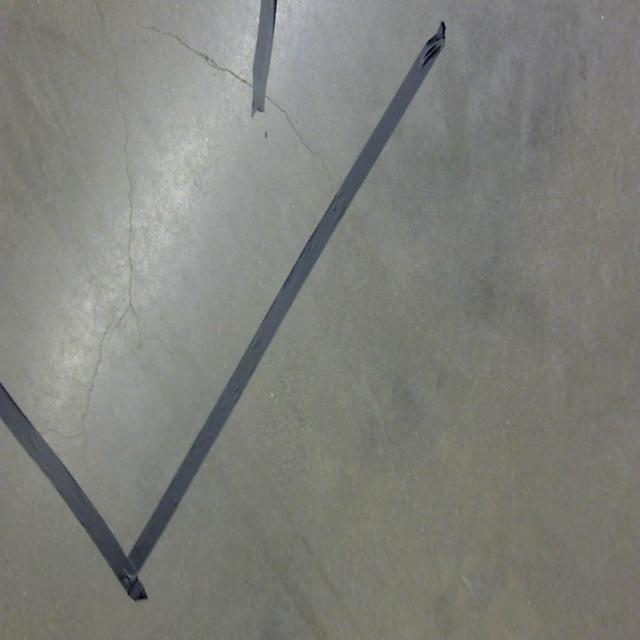tape: (0, 22, 448, 604), (246, 0, 284, 119)
